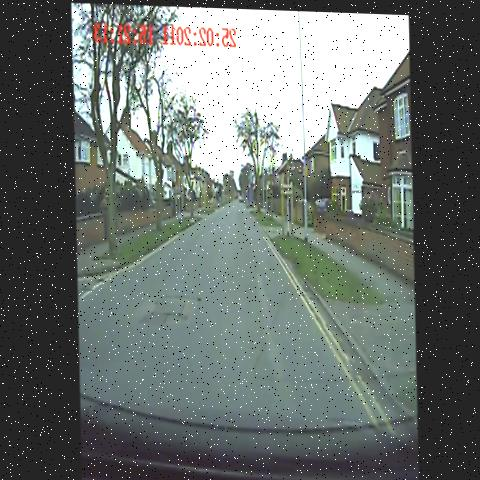pothole: (134, 280, 209, 336)
